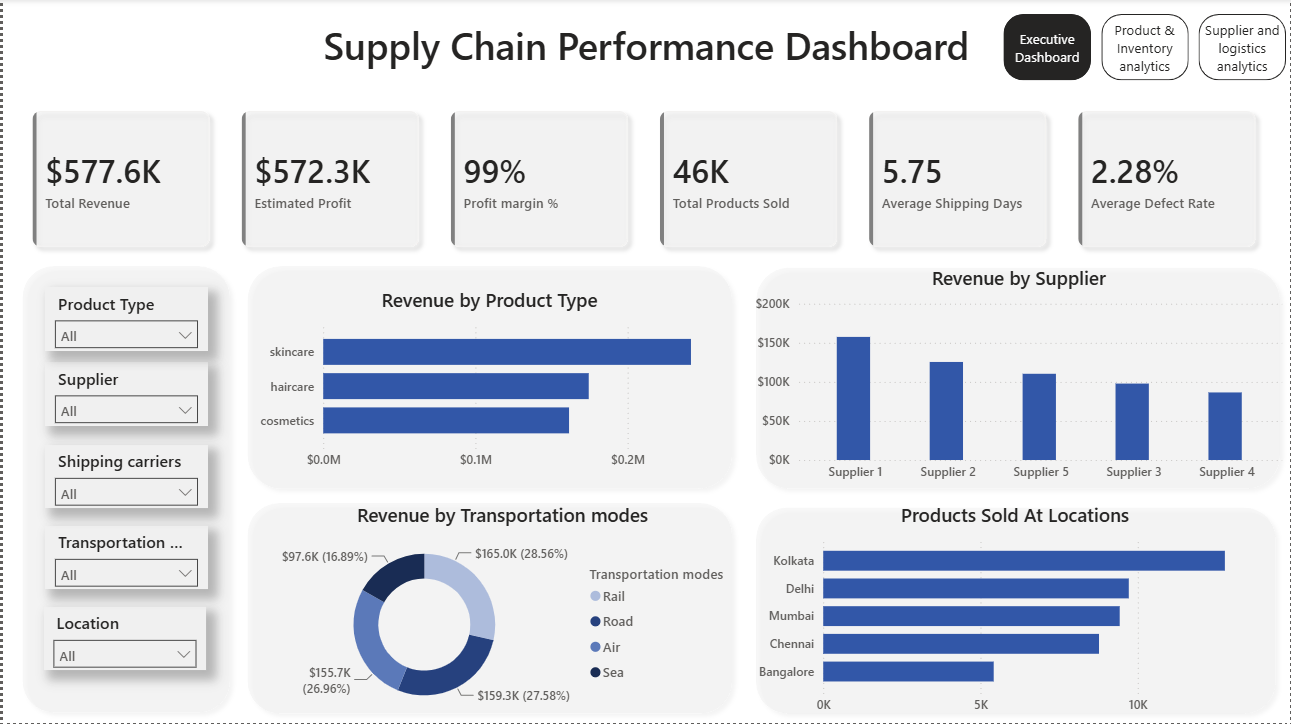

Layout of this report page (visuals, bound fields, positions):
{"tool":"powerbi","page":{"name":"Executive Dashboard","canvas":[1280,720],"ordinal":0},"visuals":[{"type":"shape","box":[234.7,492.1,499.7,227.1],"z":0},{"type":"shape","box":[234.7,255.9,499.7,239.2],"z":1000},{"type":"shape","box":[740.4,257.4,539.1,237.7],"z":2000},{"type":"shape","box":[740.4,496.7,534.5,222.6],"z":3000},{"type":"textbox","box":[0,15.1,1279.5,60.6],"z":4000},{"type":"cardVisual","fields":{"Data":["Measures (3).Total Revenue","Measures (3).Estimated Profit","Measures (3).Profit margin %","Measures (3).Total Products Sold","Measures (3).Average Shipping time","Measures (3).Average Defect Rate"]},"box":[0,81.8,1279.5,193.8],"z":5000},{"type":"clusteredBarChart","title":" Revenue by Product Type","fields":{"Y":["Measures (3).Total Revenue"],"Category":["supply_chain_data.Product Type"]},"box":[249.8,286.2,469.4,189.3],"z":6000},{"type":"clusteredColumnChart","title":"Revenue by Supplier","fields":{"Y":["Measures (3).Total Revenue"],"Category":["supply_chain_data.Supplier name"]},"box":[743.5,263.5,534.5,224.1],"z":7000},{"type":"donutChart","title":"Revenue by Transportation modes","fields":{"Category":["supply_chain_data.Transportation modes"],"Y":["Measures (3).Total Revenue"]},"box":[249.8,499.7,495.1,219.6],"z":8000},{"type":"barChart","title":"Products Sold At Locations","fields":{"Category":["supply_chain_data.Location"],"Y":["Measures (3).Total Products Sold"]},"box":[745,499.7,523.9,219.6],"z":9000},{"type":"shape","box":[10.6,255.9,224.1,461.8],"z":10000},{"type":"slicer","fields":{"Values":["supply_chain_data.Product Type"]},"box":[42.4,286.2,162,63.6],"z":11000},{"type":"slicer","fields":{"Values":["supply_chain_data.Supplier name"]},"box":[42.4,360.4,162,63.6],"z":12000},{"type":"slicer","fields":{"Values":["supply_chain_data.Shipping carriers"]},"box":[42.4,443.7,162,63.6],"z":13000},{"type":"slicer","fields":{"Values":["supply_chain_data.Transportation modes"]},"box":[42.4,523.9,162,63.6],"z":14000},{"type":"slicer","fields":{"Values":["supply_chain_data.Location"]},"box":[40.9,604.2,162,63.6],"z":15000},{"type":"pageNavigator","box":[994.8,15.1,283.2,66.6],"z":16000}]}

Visuals, with their boxes in screenshot pixels (x1, y1, x2, y2), scaled from the page's 1280x720 canvas onto the 1291x724 screenshot:
shape: {"left": 237, "top": 495, "right": 741, "bottom": 723}
shape: {"left": 237, "top": 257, "right": 741, "bottom": 498}
shape: {"left": 747, "top": 259, "right": 1290, "bottom": 498}
shape: {"left": 747, "top": 499, "right": 1286, "bottom": 723}
textbox: {"left": 0, "top": 15, "right": 1290, "bottom": 76}
cardVisual - Measures (3).Total Revenue x Measures (3).Estimated Profit: {"left": 0, "top": 82, "right": 1290, "bottom": 277}
" Revenue by Product Type" clusteredBarChart: {"left": 252, "top": 288, "right": 725, "bottom": 478}
"Revenue by Supplier" clusteredColumnChart: {"left": 750, "top": 265, "right": 1289, "bottom": 490}
"Revenue by Transportation modes" donutChart: {"left": 252, "top": 502, "right": 751, "bottom": 723}
"Products Sold At Locations" barChart: {"left": 751, "top": 502, "right": 1280, "bottom": 723}
shape: {"left": 11, "top": 257, "right": 237, "bottom": 722}
slicer - supply_chain_data.Product Type: {"left": 43, "top": 288, "right": 206, "bottom": 352}
slicer - supply_chain_data.Supplier name: {"left": 43, "top": 362, "right": 206, "bottom": 426}
slicer - supply_chain_data.Shipping carriers: {"left": 43, "top": 446, "right": 206, "bottom": 510}
slicer - supply_chain_data.Transportation modes: {"left": 43, "top": 527, "right": 206, "bottom": 591}
slicer - supply_chain_data.Location: {"left": 41, "top": 608, "right": 205, "bottom": 672}
pageNavigator: {"left": 1003, "top": 15, "right": 1289, "bottom": 82}
